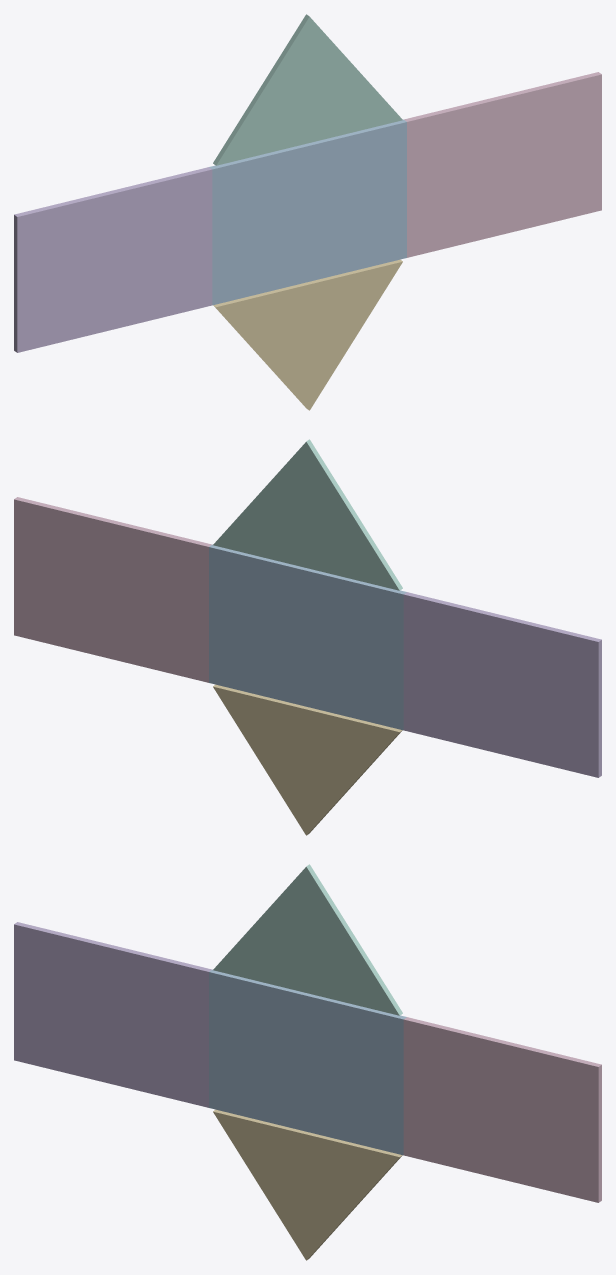
The model's file is jaring-prisma.glb.
3 renders of one model, top to bottom at view 1: azimuth 30°, elevation 25°; view 2: azimuth 150°, elevation 25°; view 3: azimuth 330°, elevation 25°, orthographic.
Visible parts, largest first — view 1: jaring-prisma_0, jaring-prisma_2, jaring-prisma_1, jaring-prisma_3, jaring-prisma_4; view 2: jaring-prisma_0, jaring-prisma_2, jaring-prisma_1, jaring-prisma_3, jaring-prisma_4; view 3: jaring-prisma_2, jaring-prisma_0, jaring-prisma_1, jaring-prisma_3, jaring-prisma_4.
Boxes of the visible parts, bbox=[...] form: jaring-prisma_0: bbox=[14, 167, 212, 352]; jaring-prisma_2: bbox=[404, 72, 601, 257]; jaring-prisma_1: bbox=[209, 119, 406, 305]; jaring-prisma_3: bbox=[213, 14, 402, 165]; jaring-prisma_4: bbox=[213, 259, 402, 410]; jaring-prisma_0: bbox=[403, 592, 601, 777]; jaring-prisma_2: bbox=[14, 497, 211, 682]; jaring-prisma_1: bbox=[209, 544, 406, 730]; jaring-prisma_3: bbox=[213, 439, 402, 590]; jaring-prisma_4: bbox=[213, 684, 402, 835]; jaring-prisma_2: bbox=[403, 1017, 601, 1202]; jaring-prisma_0: bbox=[14, 922, 211, 1107]; jaring-prisma_1: bbox=[209, 969, 406, 1155]; jaring-prisma_3: bbox=[213, 864, 402, 1015]; jaring-prisma_4: bbox=[213, 1109, 402, 1260].
Bounding box in the file's own units: 4.5 × 2.9 × 0.045.
